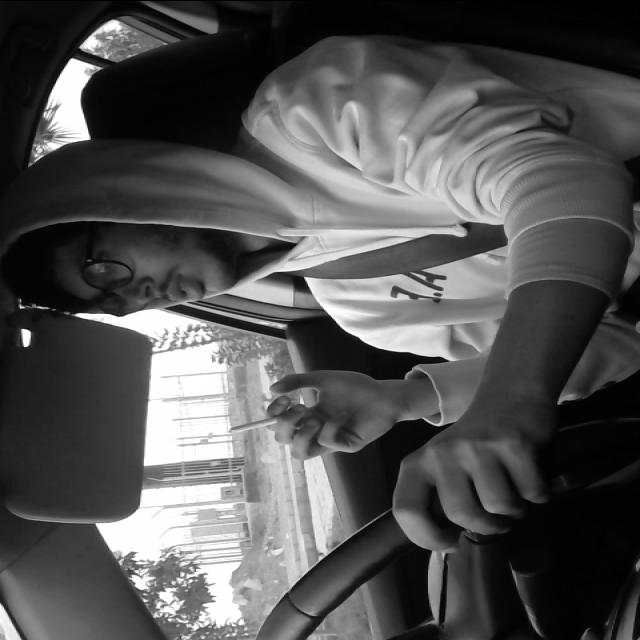smoking: (226, 403, 313, 438)
